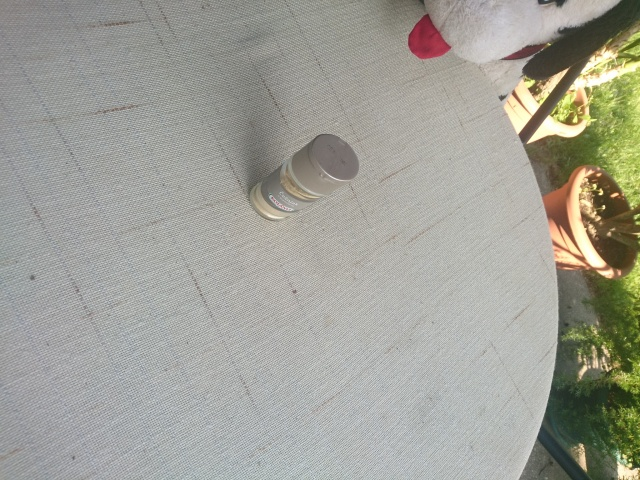Kotanyi Garlic Granules 70g: (246, 132, 362, 223)
